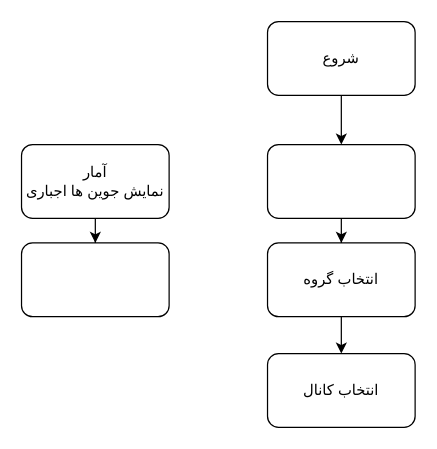
The diagram is 437 pixels wide and 449 high, and some of its shapes have lost their labels. Here are the shapes that lost their labels. From the top down, the box of each, then its label:
(266, 143, 415, 218): افزودن ربات به گروه
(20, 242, 169, 317): حذف لینک جون با کانفیرم
